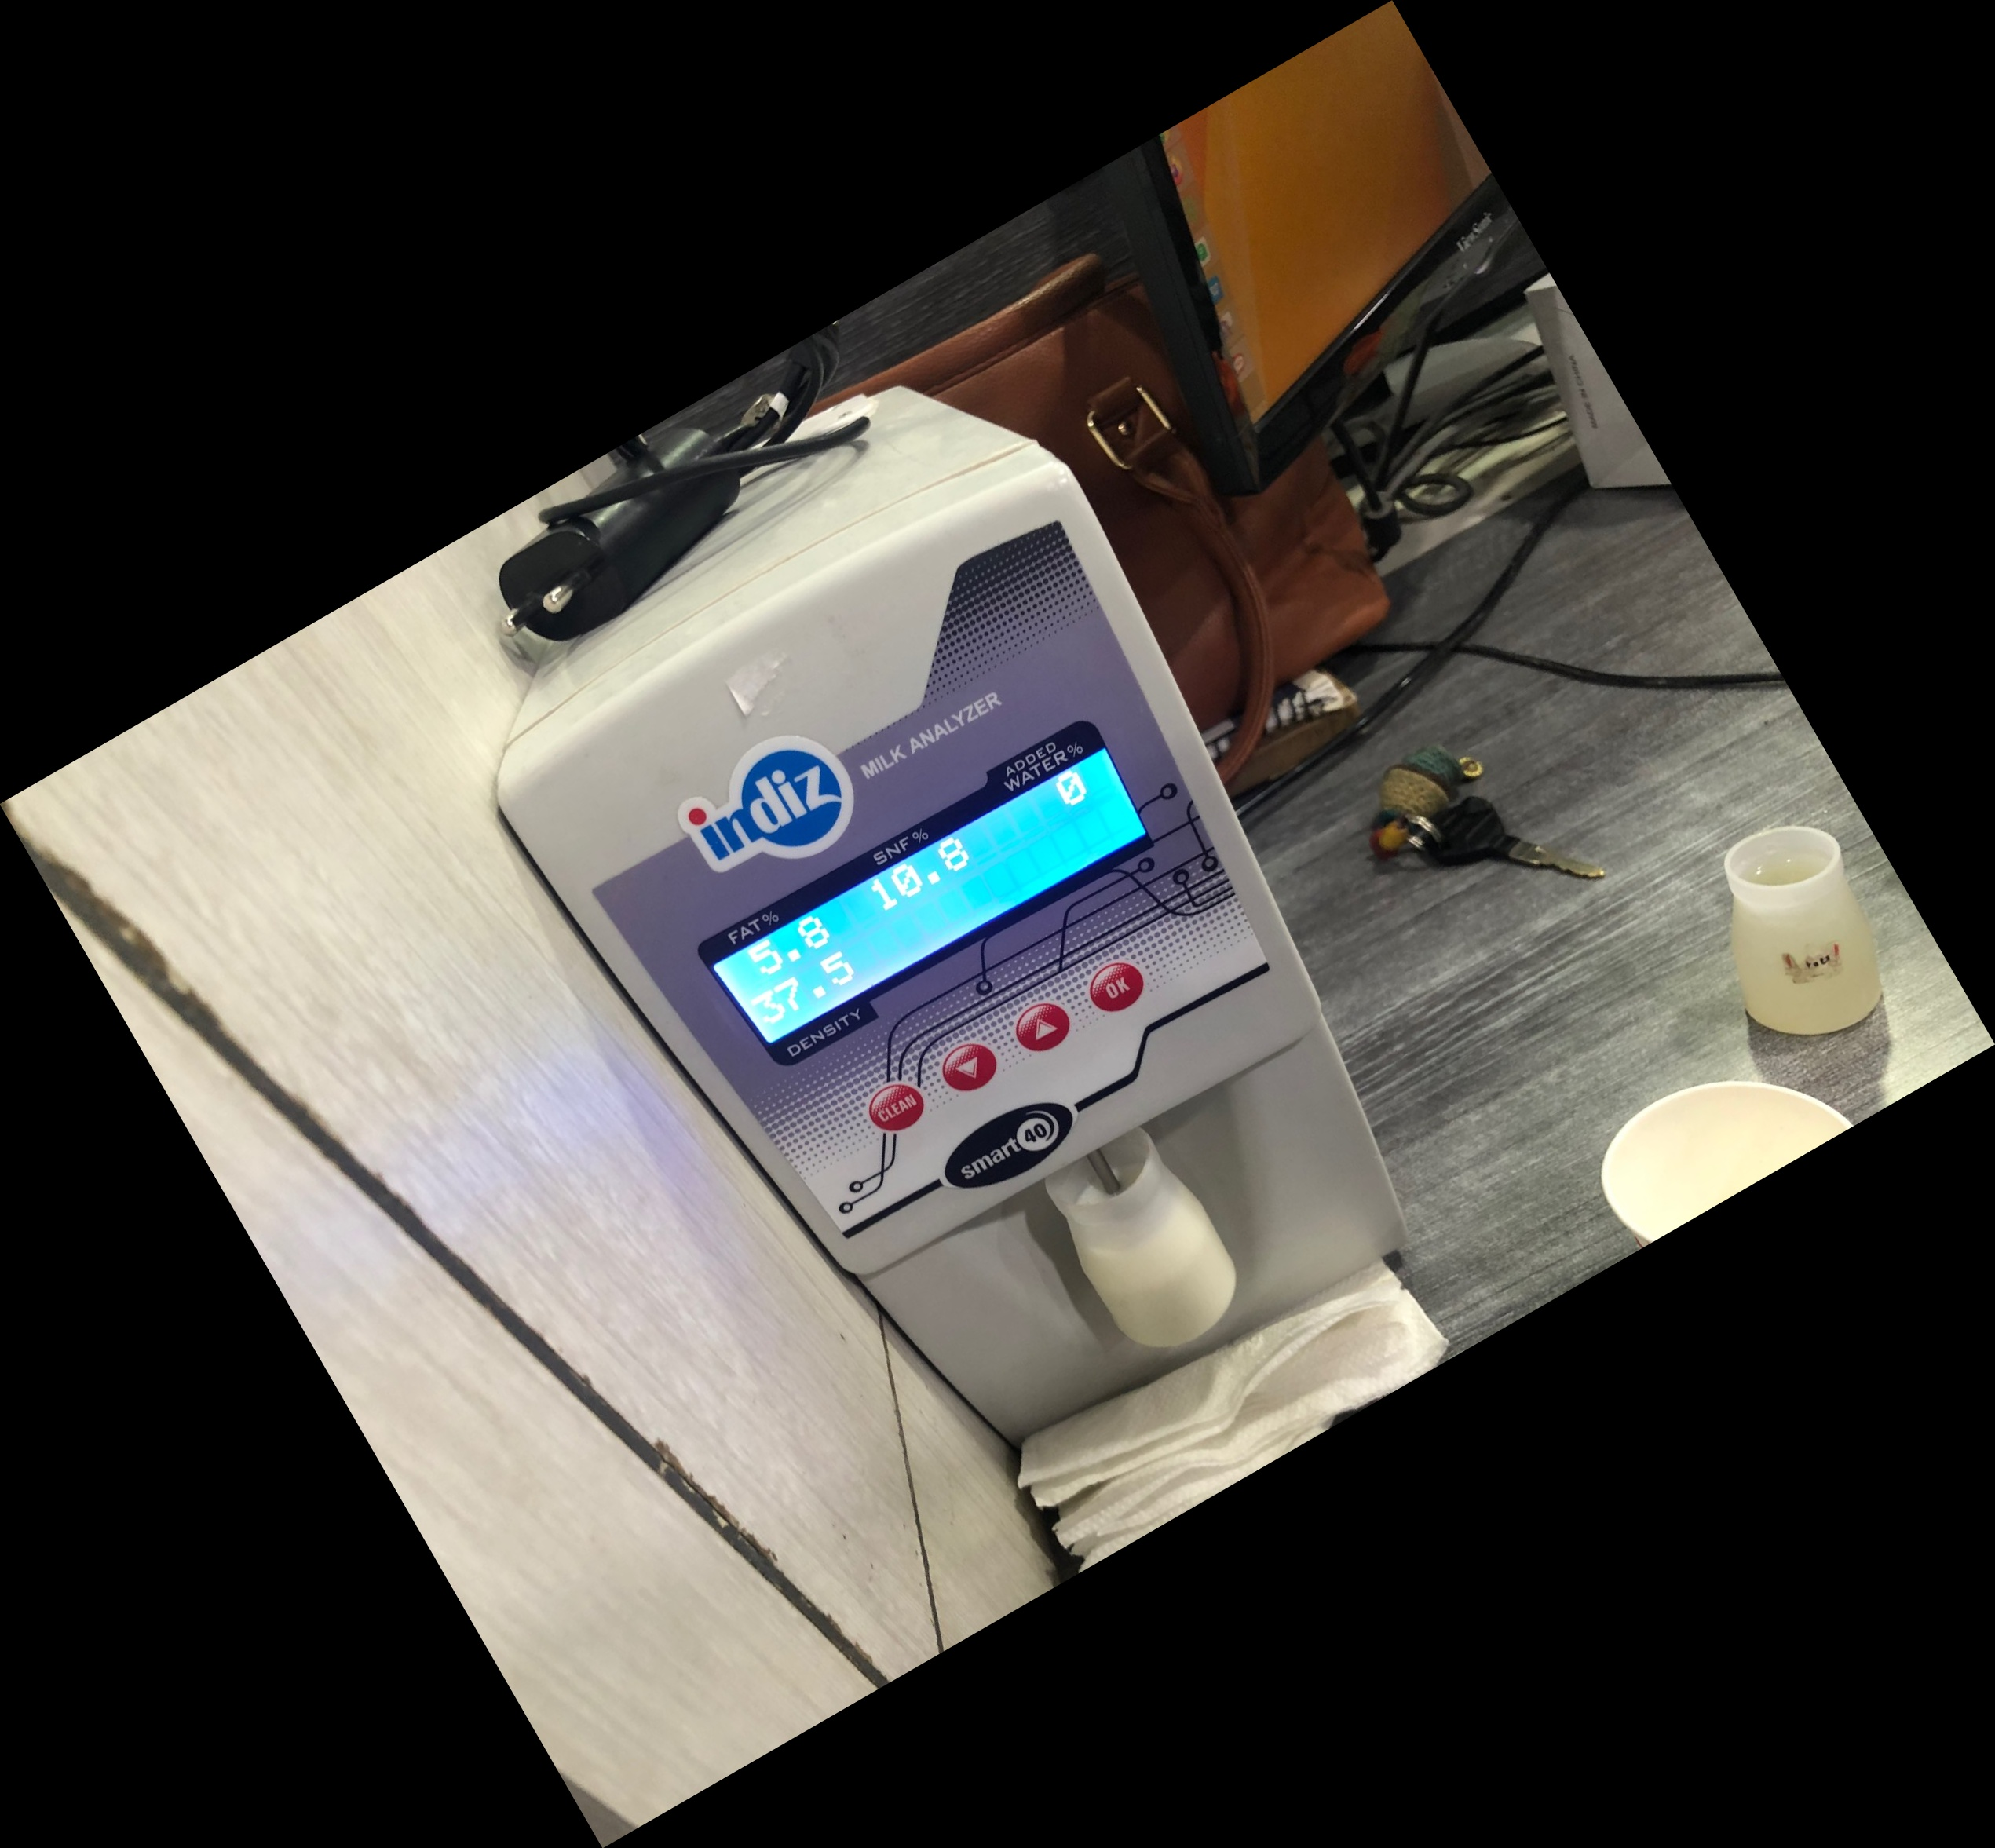lcd: (704, 712, 1159, 1113)
